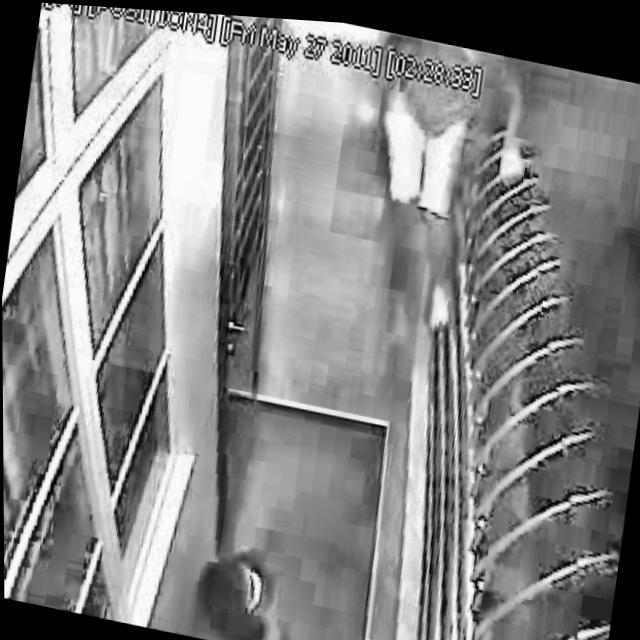burglary: (332, 23, 546, 360), (182, 530, 307, 640)
